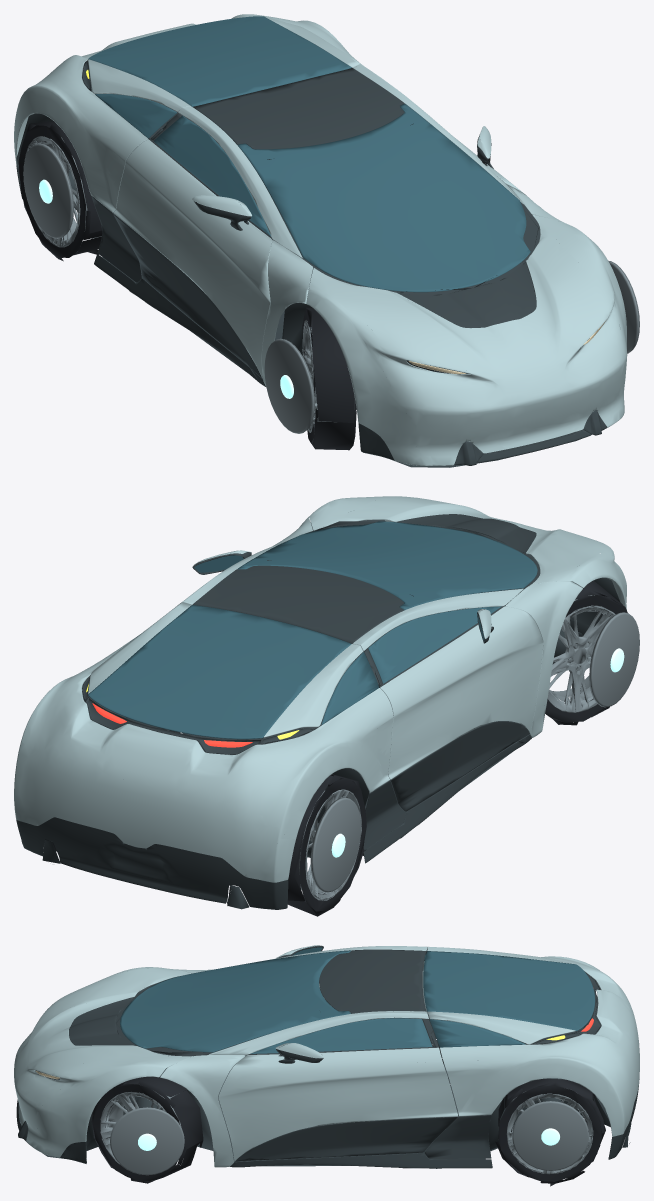
Rendered from sentinel-sedan.fbx.
The picture shows the model from 3 angles, top to bottom: view 1: azimuth 30°, elevation 25°; view 2: azimuth 150°, elevation 25°; view 3: azimuth 270°, elevation 25°; orthographic projection. The views are drawn at different scales.
Parts seen in each view (by area): view 1: BodyHood, BodyWindshield, BodyDoorRColor1, BodyRearwindow, BodyRearPanelsColor1, BodyRoofPanel, BodyPillars, BodyPanelsColor2, Mesh_91.002, BodyDoorRColor2, BodyHoodTopgrill, BodyDoorRWindow (+10 smaller); view 2: BodyRearPanelsColor1, BodyRearwindow, BodyDoorRColor1, BodyWindshield, BodyPanelsColor2, BodyRoofPanel, BodyHood, BodyPillars, BodyDoorRColor2, BodyDoorRWindow, Mesh_95.002, WheelFrontRRim (+9 smaller); view 3: BodyDoorLColor1, BodyRearPanelsColor1, BodyWindshield, BodyHood, BodyRearwindow, BodyPillars, BodyRoofPanel, BodyDoorLColor2, BodyPanelsColor2, Aero hub.002, Mesh_89.002, Mesh_93.002 (+10 smaller).
Part boxes in pixels (left/top/right/bottom): BodyHood: left=306, top=214, right=627, bottom=465; BodyWindshield: left=237, top=103, right=530, bottom=292; BodyDoorRColor1: left=113, top=139, right=272, bottom=377; BodyRearwindow: left=88, top=16, right=351, bottom=106; BodyRearPanelsColor1: left=14, top=14, right=361, bottom=212; BodyRoofPanel: left=193, top=68, right=403, bottom=149; BodyPillars: left=178, top=64, right=568, bottom=385; BodyPanelsColor2: left=16, top=105, right=590, bottom=462; Mesh_91.002: left=302, top=307, right=356, bottom=450; BodyDoorRColor2: left=113, top=213, right=261, bottom=377; BodyHoodTopgrill: left=398, top=262, right=536, bottom=327; BodyDoorRWindow: left=153, top=115, right=271, bottom=236; BodyRearPanelsColor1: left=14, top=602, right=393, bottom=882; BodyRearwindow: left=88, top=605, right=351, bottom=739; BodyDoorRColor1: left=380, top=606, right=543, bottom=779; BodyWindshield: left=237, top=521, right=537, bottom=610; BodyPanelsColor2: left=16, top=730, right=531, bottom=909; BodyRoofPanel: left=192, top=565, right=403, bottom=643; BodyHood: left=308, top=496, right=626, bottom=609; BodyPillars: left=182, top=517, right=582, bottom=737; BodyDoorRColor2: left=390, top=721, right=529, bottom=811; BodyDoorRWindow: left=368, top=606, right=501, bottom=683; Mesh_95.002: left=287, top=774, right=366, bottom=916; WheelFrontRRim: left=547, top=594, right=615, bottom=712; BodyDoorLColor1: left=218, top=1047, right=457, bottom=1161; BodyRearPanelsColor1: left=427, top=946, right=639, bottom=1136; BodyWindshield: left=120, top=950, right=351, bottom=1052; BodyHood: left=14, top=967, right=193, bottom=1157; BodyRearwindow: left=423, top=951, right=595, bottom=1031; BodyPillars: left=160, top=946, right=428, bottom=1167; BodyRoofPanel: left=319, top=949, right=426, bottom=1013; BodyDoorLColor2: left=235, top=1116, right=457, bottom=1161; BodyPanelsColor2: left=16, top=1040, right=639, bottom=1168; Aero hub.002: left=512, top=1101, right=589, bottom=1170; Mesh_89.002: left=91, top=1075, right=203, bottom=1183; Mesh_93.002: left=495, top=1078, right=605, bottom=1186.
Size of the model in its own units: 460 by 219 by 126.
